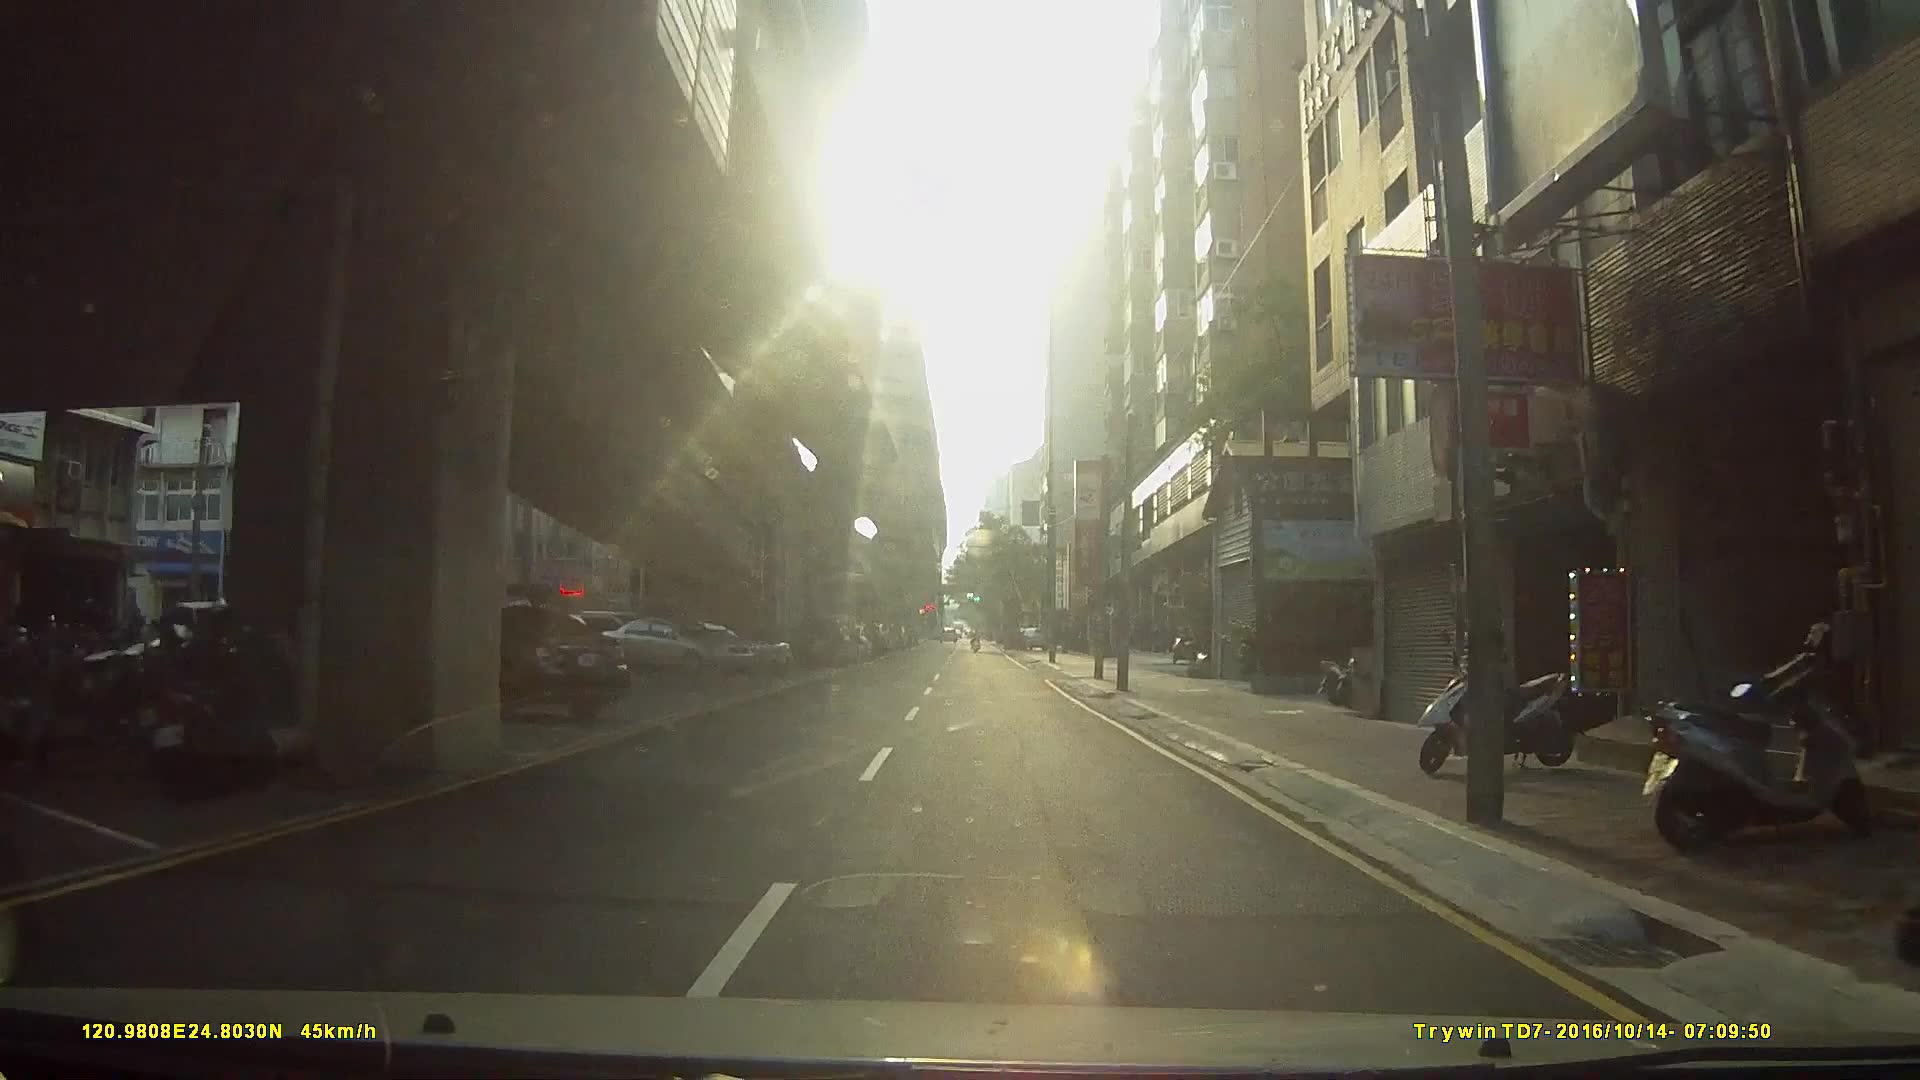vehicle: (413, 607, 629, 724), (597, 618, 757, 678), (789, 615, 849, 669)
